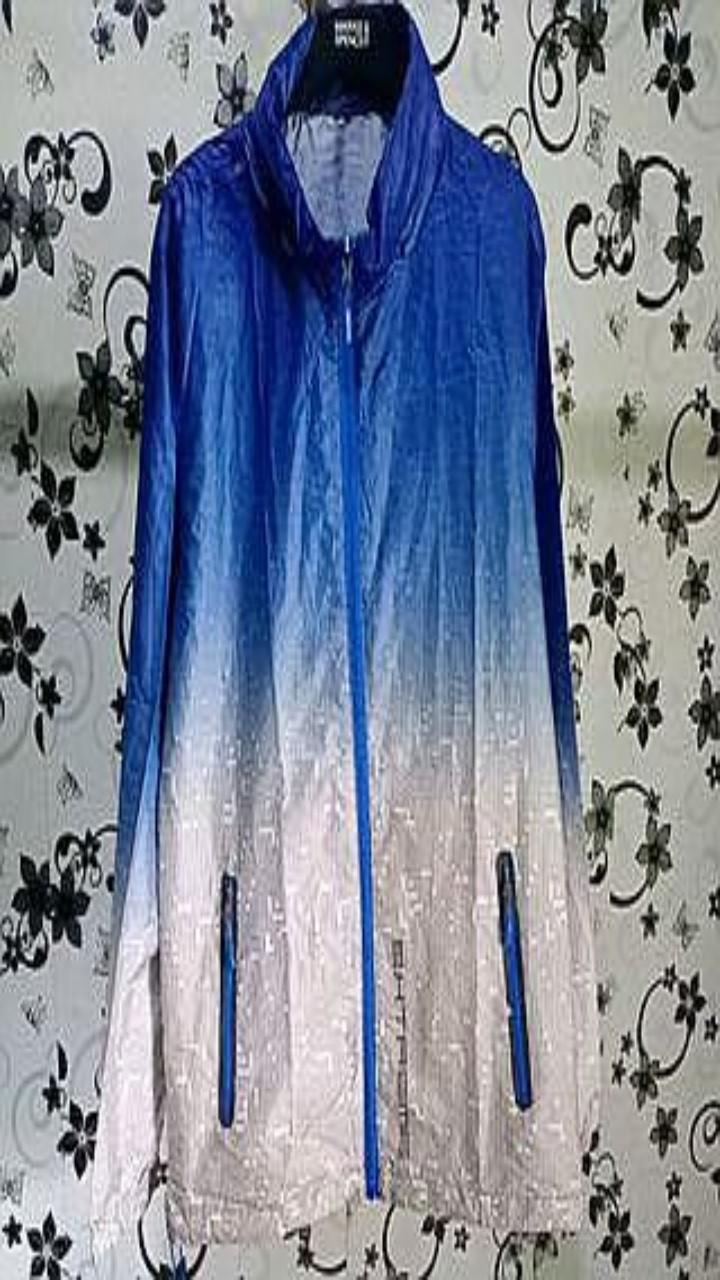Sports_Jacket: (90, 5, 598, 1255)
